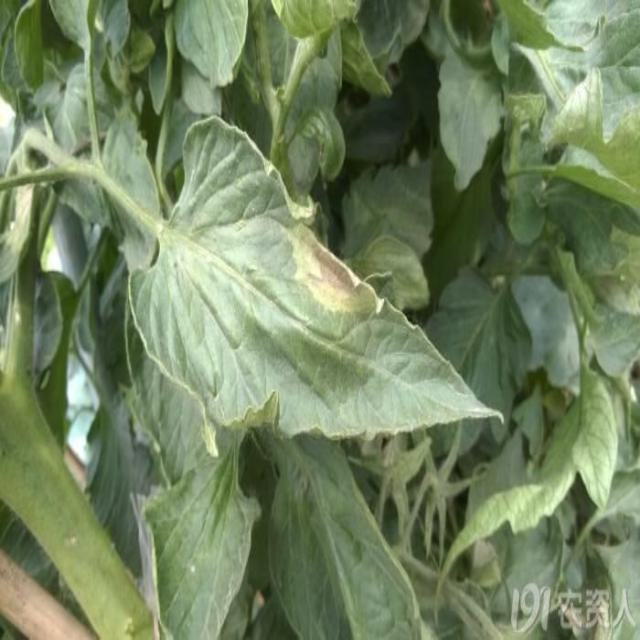Late_blight: (280, 209, 381, 313)
